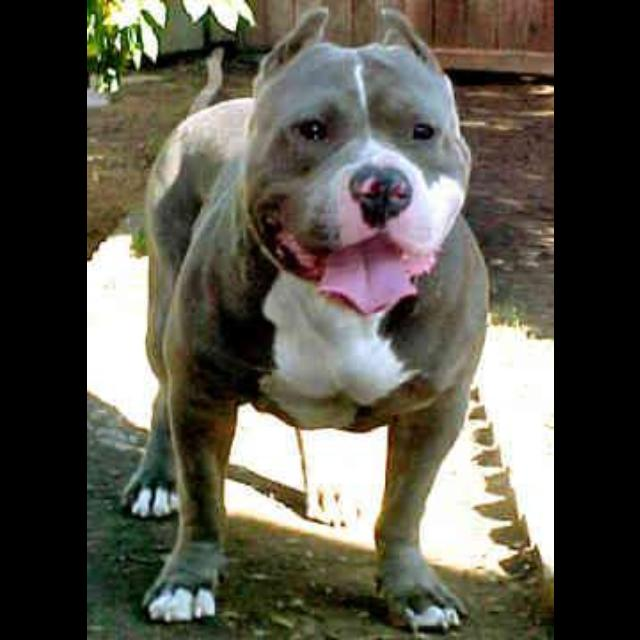amstaff: (120, 5, 491, 634)
